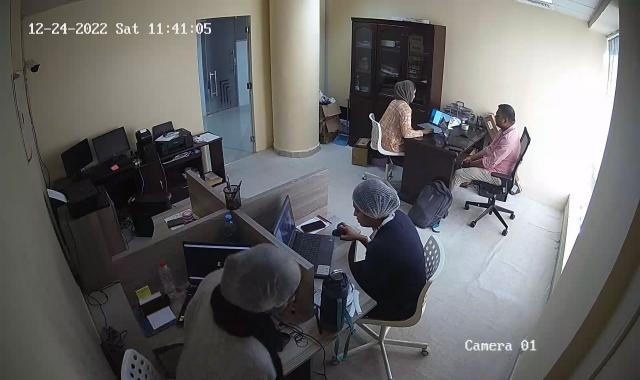hairnet: (223, 243, 299, 313), (354, 177, 401, 224)
no_hairnet: (492, 105, 517, 132), (391, 80, 418, 104)
